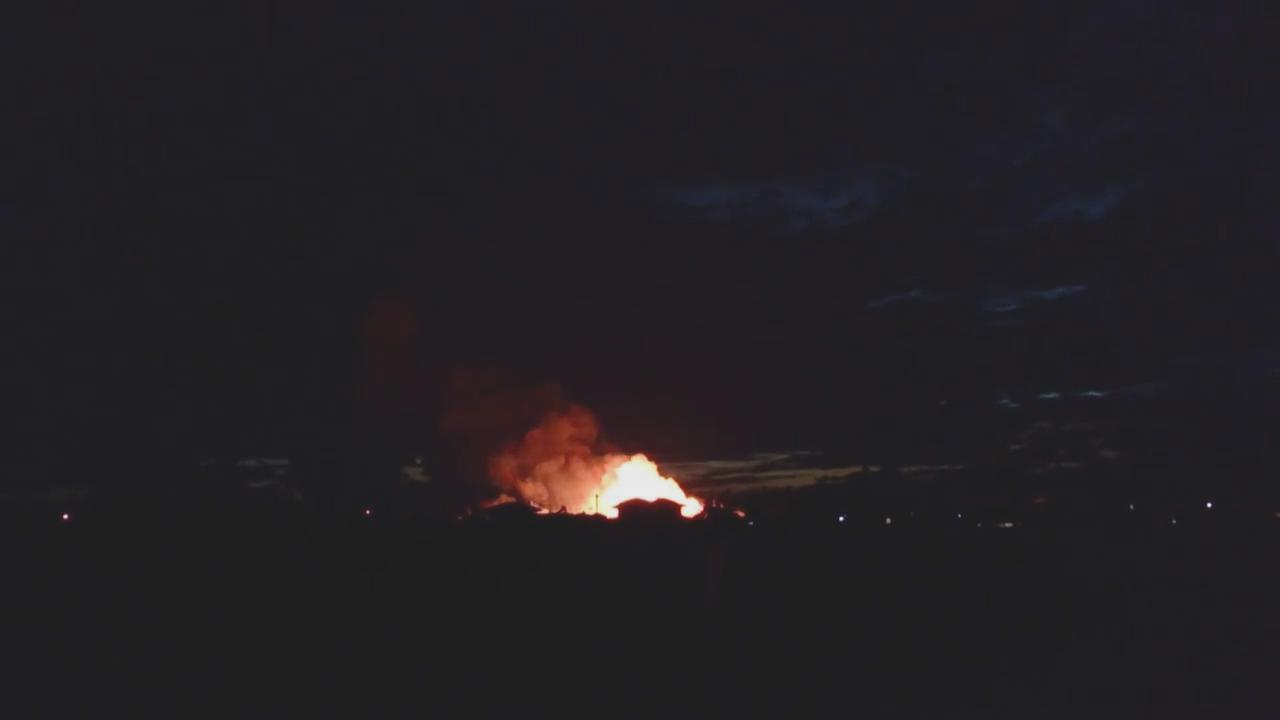Fire: (592, 454, 705, 525)
